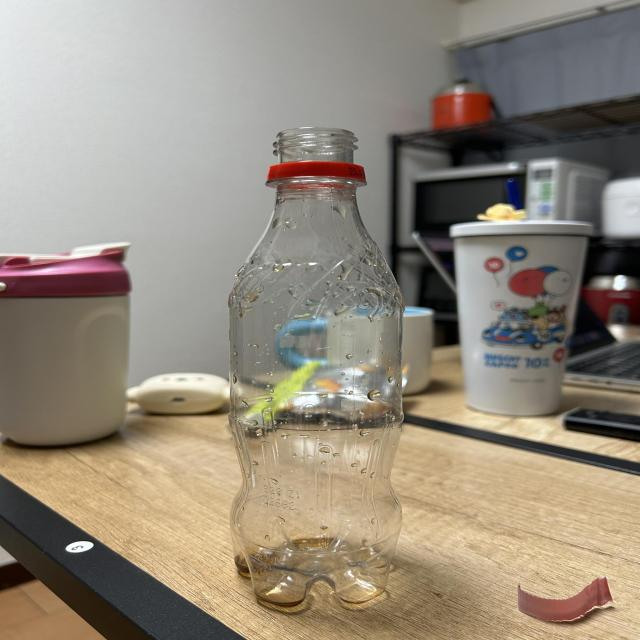empty: (229, 128, 403, 606)
